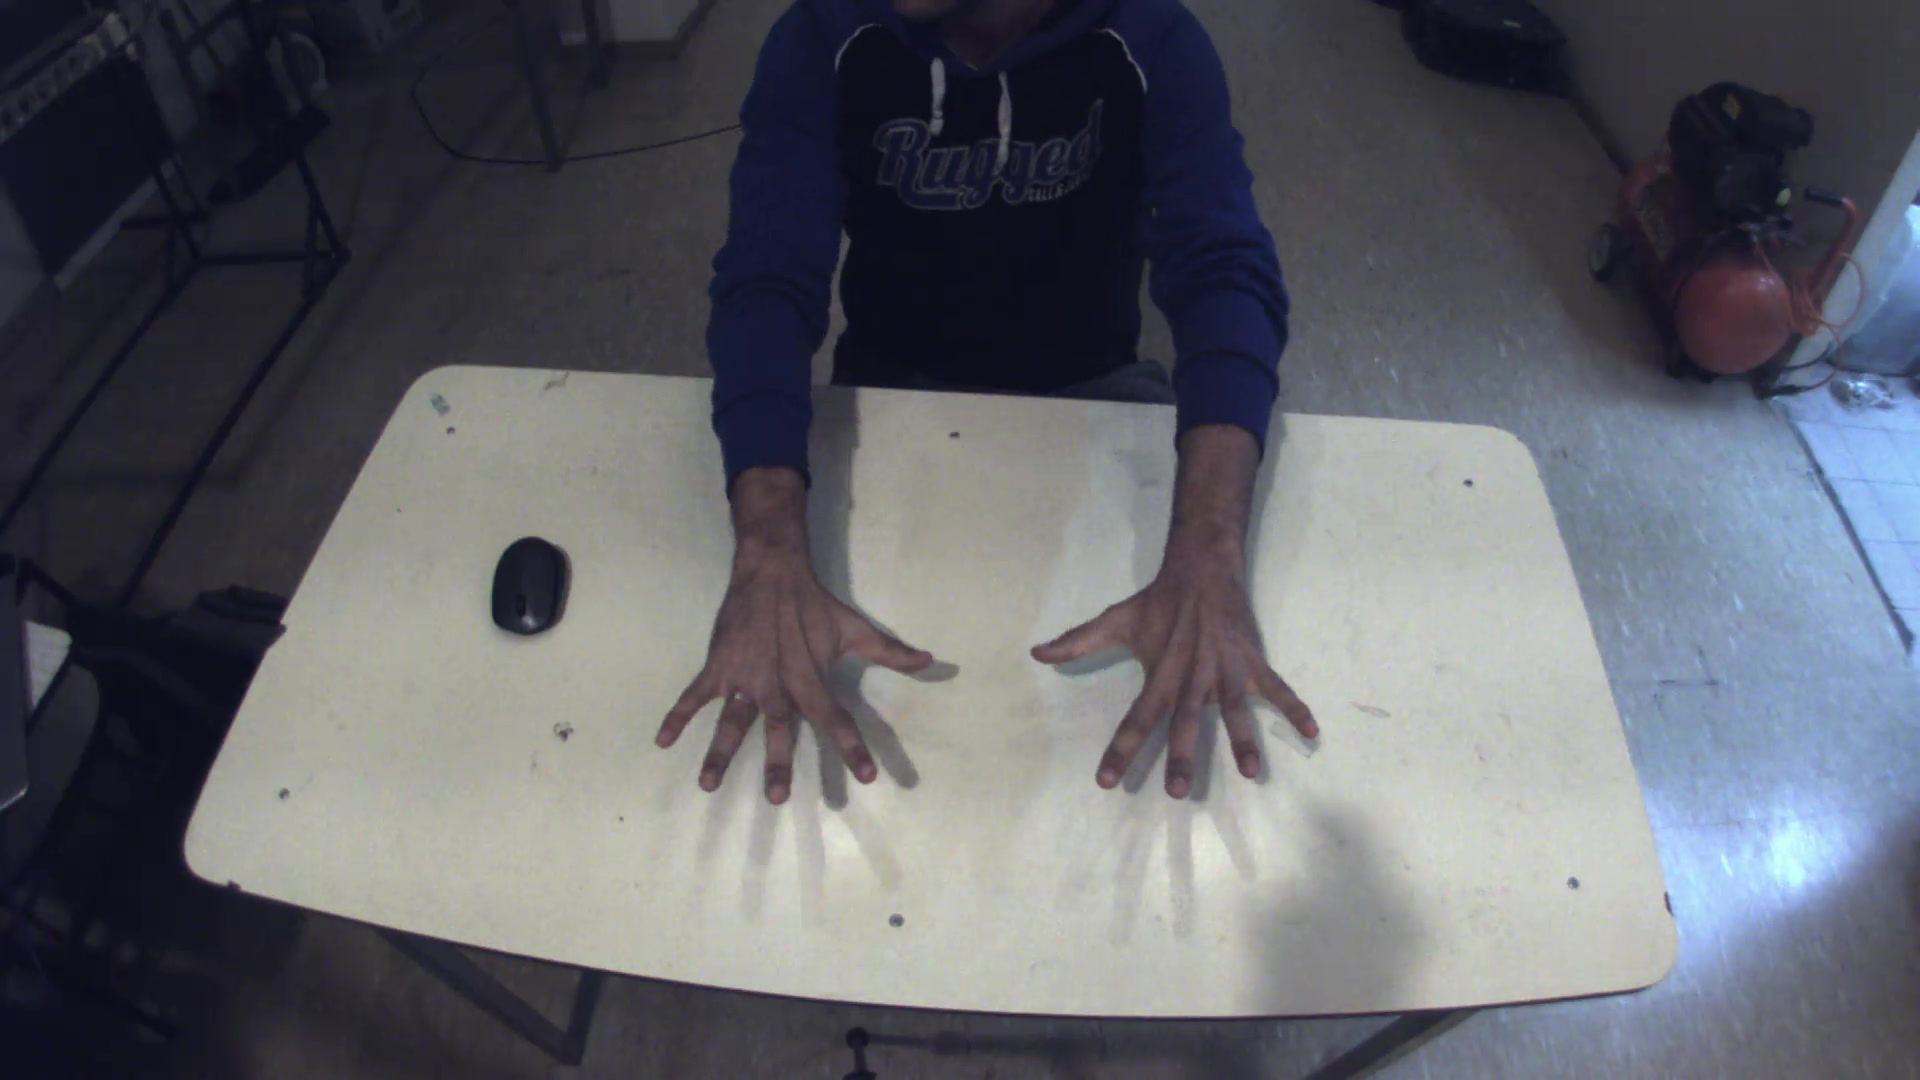hand: (633, 487, 957, 823), (1025, 537, 1335, 808)
